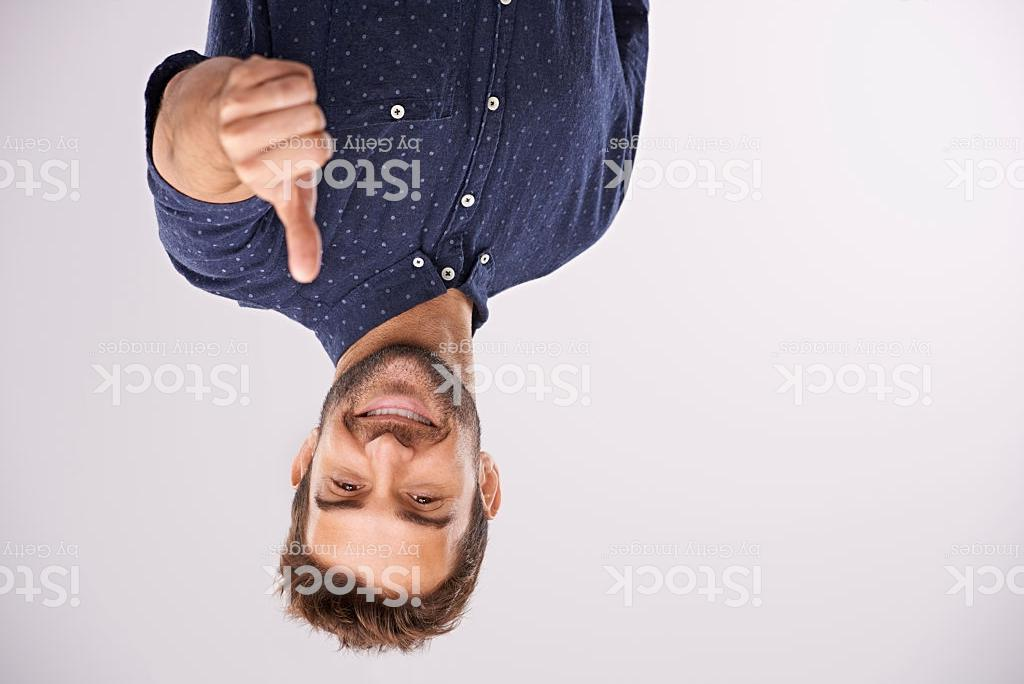thumbsdown: (216, 53, 334, 285)
